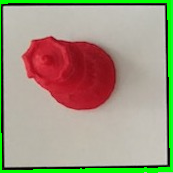Red Queen: (20, 32, 116, 111)
